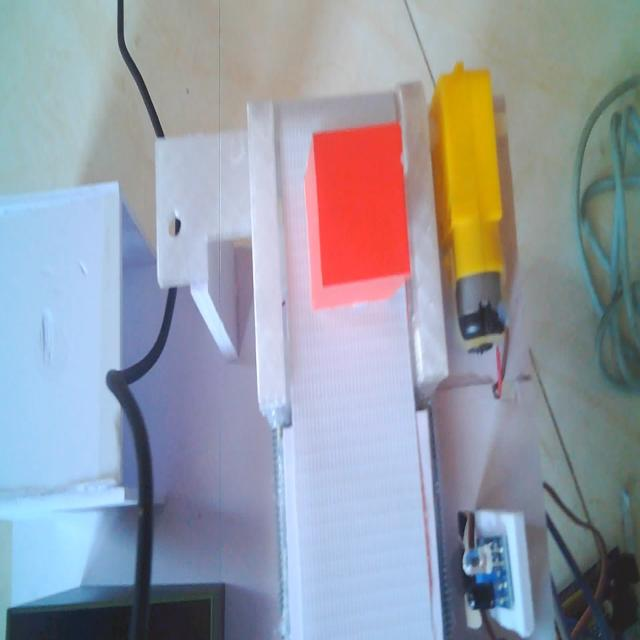red: (302, 122, 415, 311)
